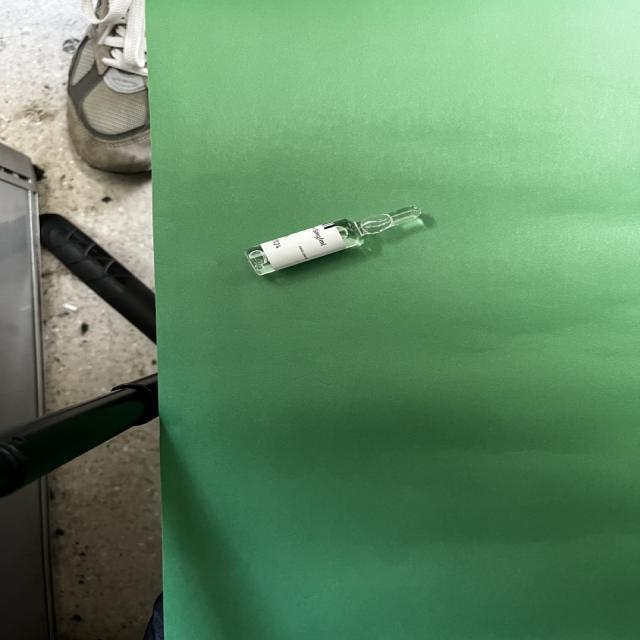Ampoules: (245, 206, 421, 276)
